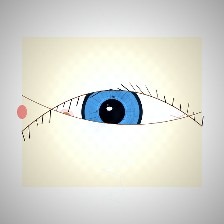foreign_body_visible: (52, 106, 79, 128)
